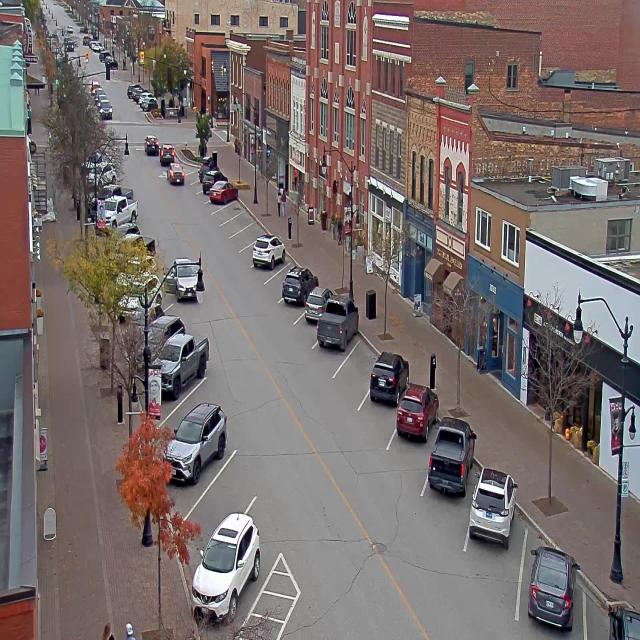available: (201, 438, 264, 516), (169, 367, 223, 417), (341, 329, 379, 390), (266, 252, 294, 290), (243, 217, 263, 245), (232, 204, 252, 230), (226, 194, 243, 219), (184, 165, 199, 186)
occupied: (192, 511, 261, 624), (164, 400, 228, 484), (526, 544, 580, 630), (427, 415, 476, 498), (468, 467, 517, 548), (152, 332, 209, 399), (587, 588, 639, 639), (394, 383, 432, 446), (316, 296, 358, 352), (368, 350, 409, 406), (146, 309, 188, 349), (282, 265, 318, 304), (302, 281, 333, 325), (252, 232, 285, 269), (209, 179, 238, 204), (202, 170, 226, 190), (197, 156, 215, 180)
